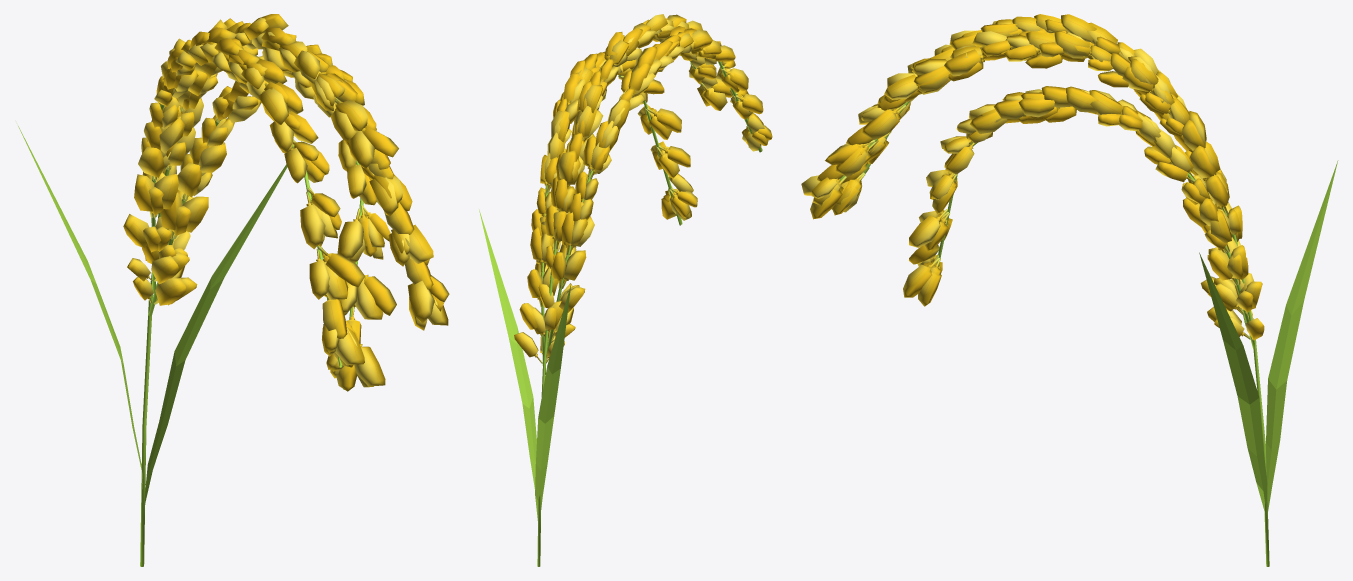
File: RiceGet_LOD.fbx
3 views of the same model, side by side, from view 1: azimuth 30°, elevation 25°; view 2: azimuth 150°, elevation 25°; view 3: azimuth 270°, elevation 25° (orthographic). The views are drawn at different scales.
Visible parts, largest first — view 1: RiceGet_LOD0; view 2: RiceGet_LOD0; view 3: RiceGet_LOD0.
Part boxes in pixels (x1,y1,x2,y2): RiceGet_LOD0: (18, 14, 449, 566); RiceGet_LOD0: (479, 14, 772, 566); RiceGet_LOD0: (801, 14, 1338, 566).
Size of what is drawn, in the model's own units: 113 by 328 by 296.
1 material, 1 textured.
